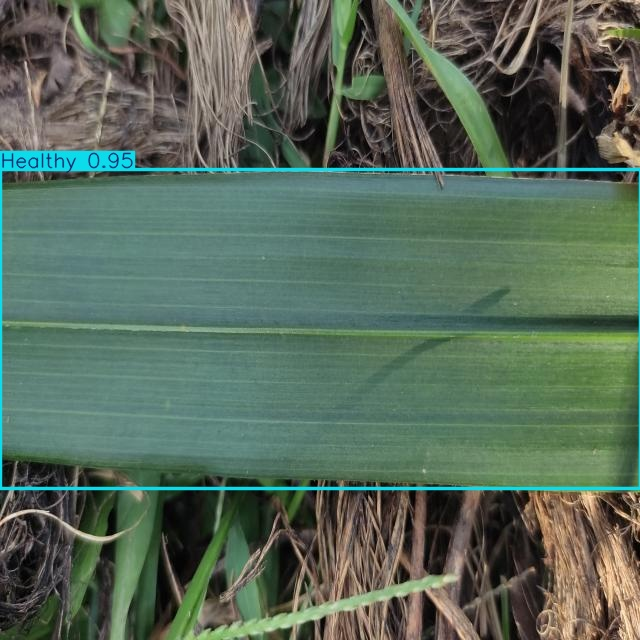Healthy: (0, 170, 640, 488)
